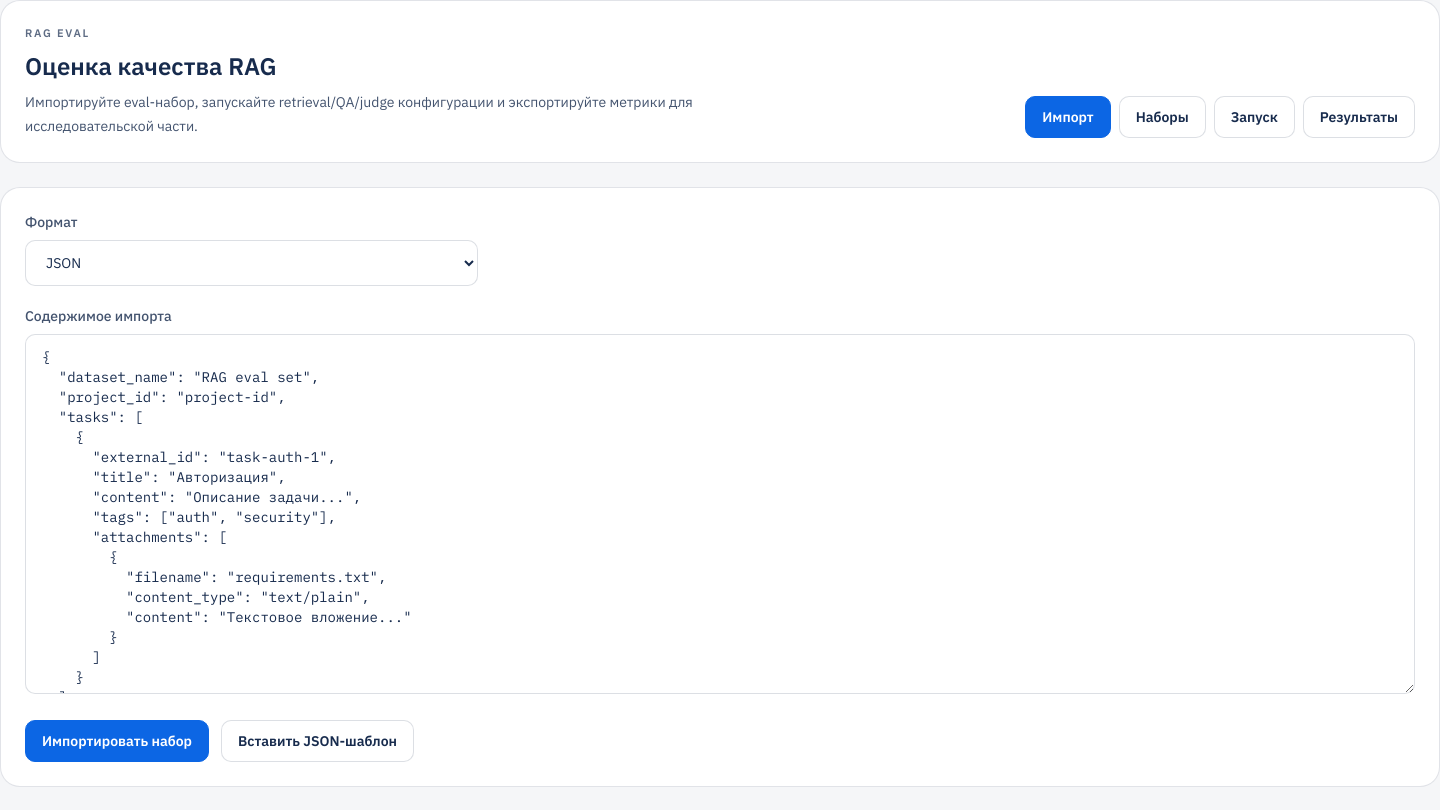
Test: RagEvalPage › imports a JSON dataset and starts a RAG Eval run
Expected: the heading "Оценка качества RAG" is shown, top-left (25, 50), bottom-right (277, 82)
Click the button "Импортировать набор" at (117, 740), box top-left (25, 720), bottom-right (209, 762)
(page scrolled)
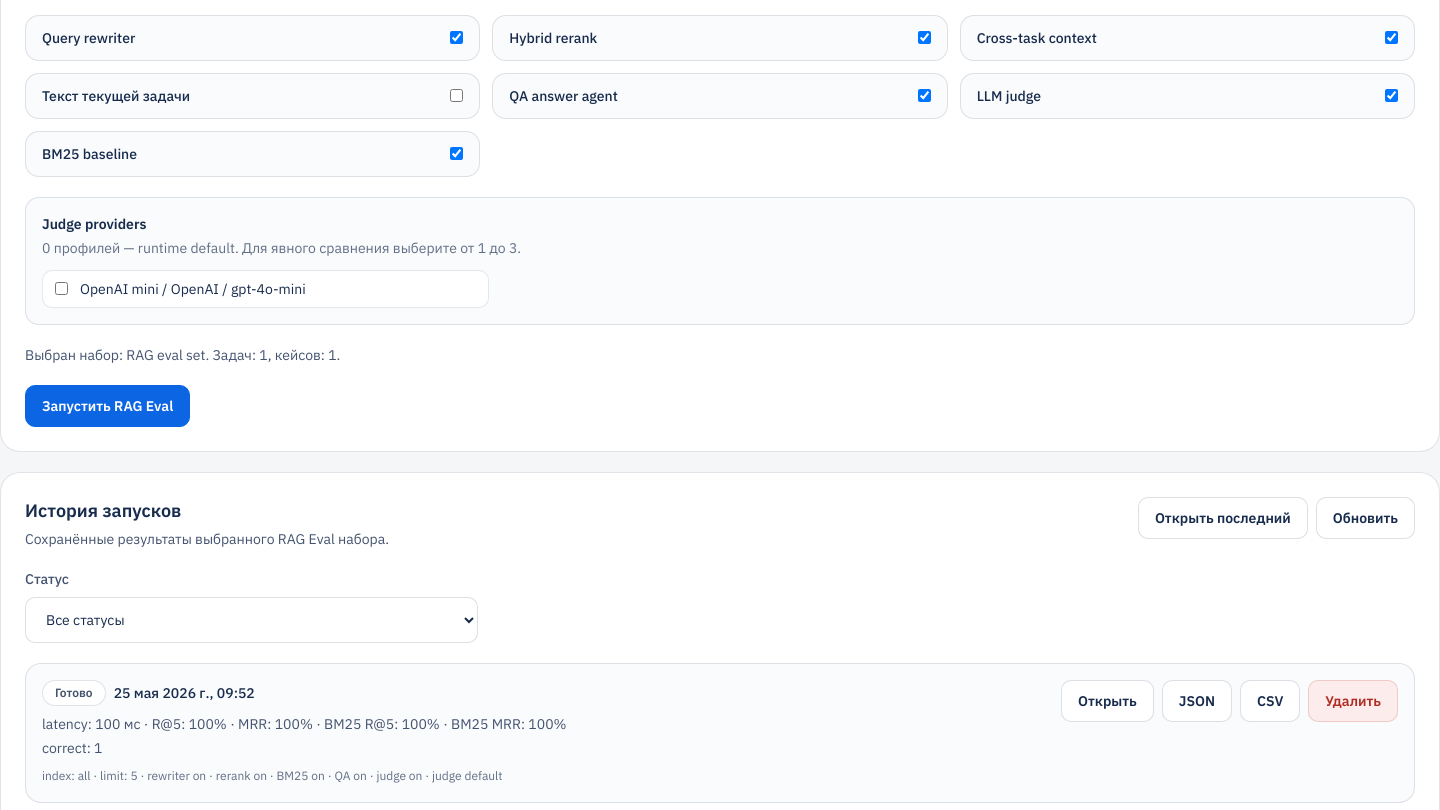
Click the button "Запустить RAG Eval" at (108, 406), box top-left (25, 384), bottom-right (190, 426)
(page scrolled)
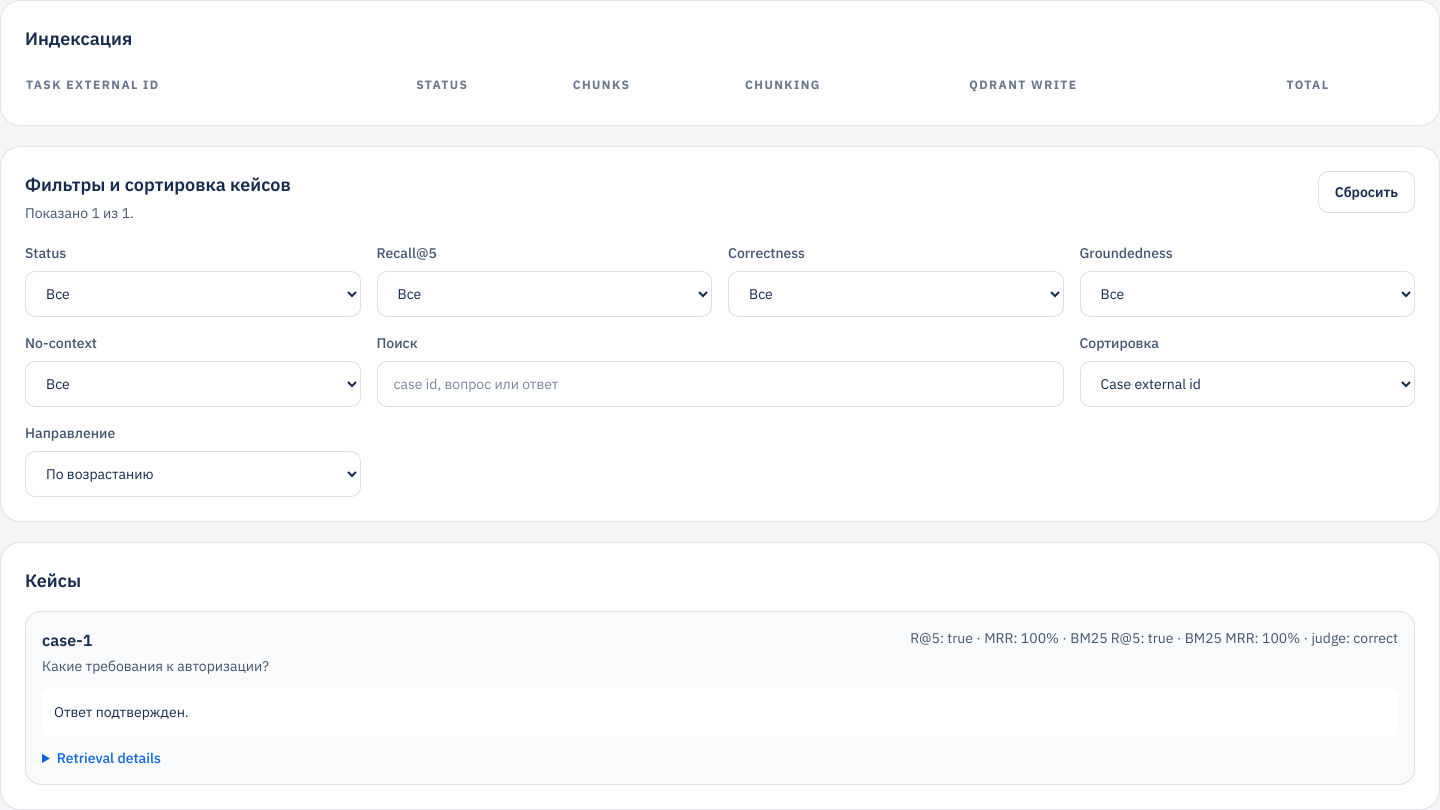
Now the text "case-1" is shown, box top-left (42, 630), bottom-right (92, 650)
